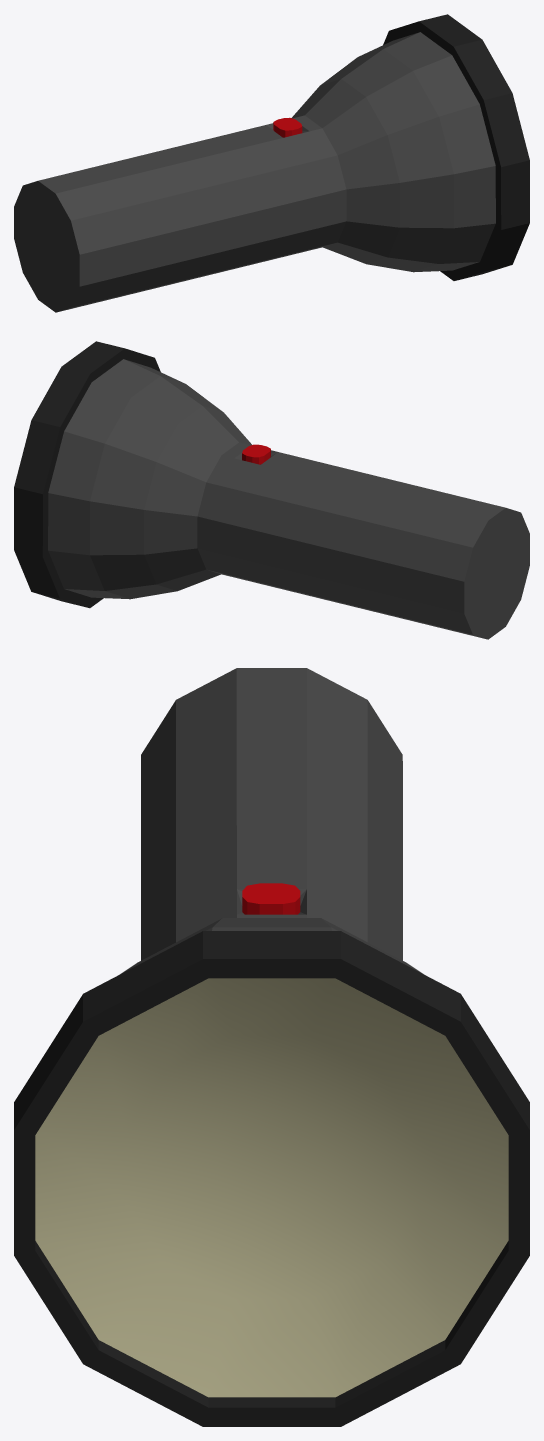
File: Flashlight.fbx
3 views of the same model, one above another, from view 1: azimuth 30°, elevation 25°; view 2: azimuth 150°, elevation 25°; view 3: azimuth 270°, elevation 25° (orthographic). The views are drawn at different scales.
Parts seen in each view (by area): view 1: Cylinder; view 2: Cylinder; view 3: Cylinder.
Boxes of the visible parts, box(x1,y1,x2,y2) form: Cylinder: box(14, 14, 529, 312); Cylinder: box(14, 341, 529, 639); Cylinder: box(14, 668, 529, 1426).
Size of the model in its own units: 26.23 by 14.05 by 14.05.
